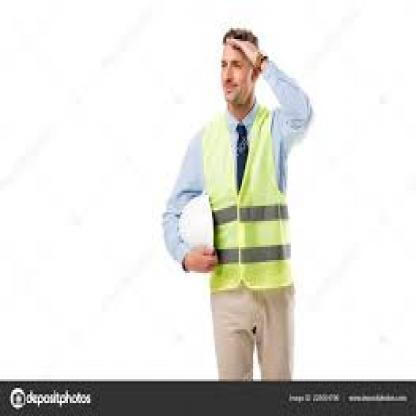vest: (202, 106, 296, 292)
